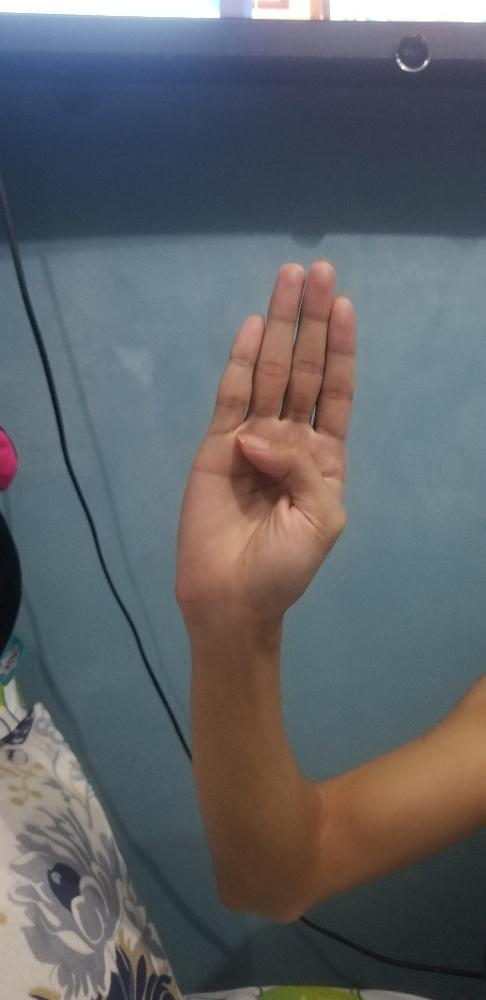b: (172, 253, 357, 616)
